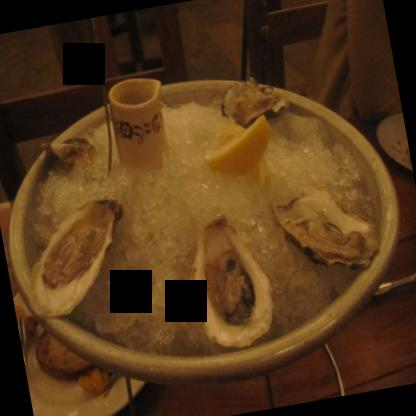oyster: (17, 191, 134, 322), (186, 209, 280, 354), (274, 179, 380, 274)
